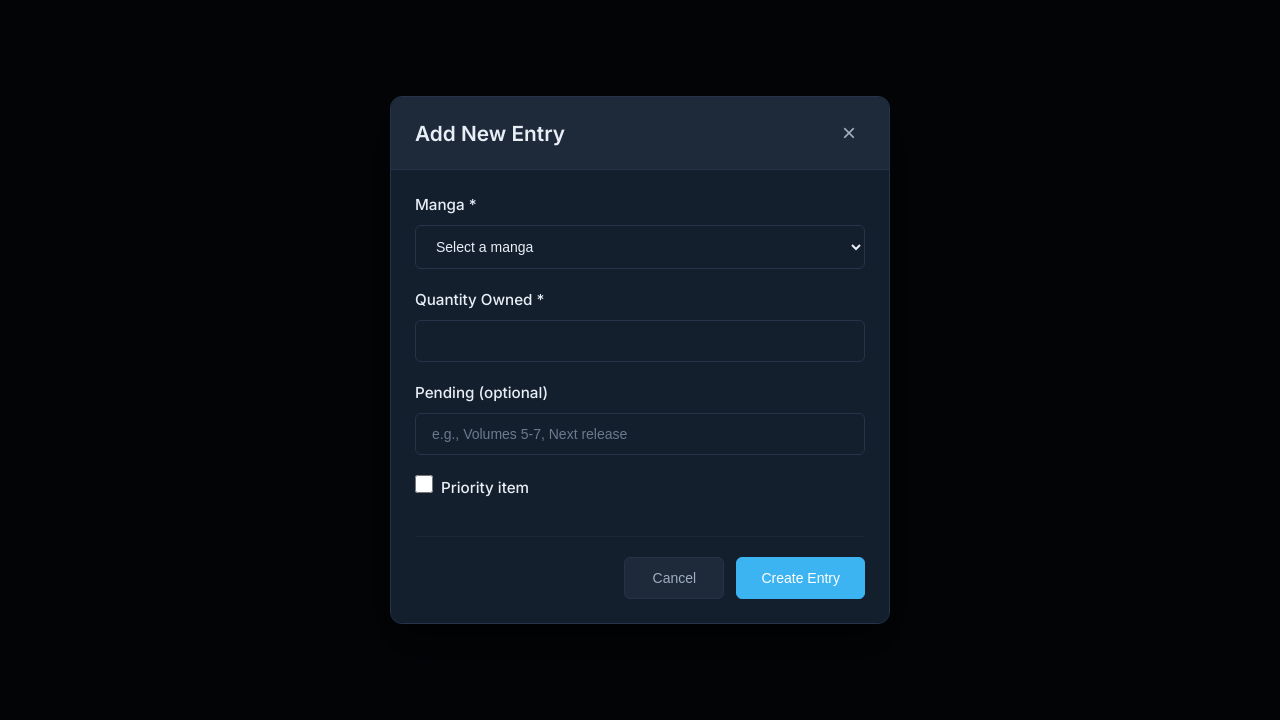
Test case: AddEntryModal: render y validaciones › exige un perfil seleccionado
Select "Alpha (10 volumes)" in the dropdown labelled "Manga *" at coordinates (640, 247), box [415,225,865,269]
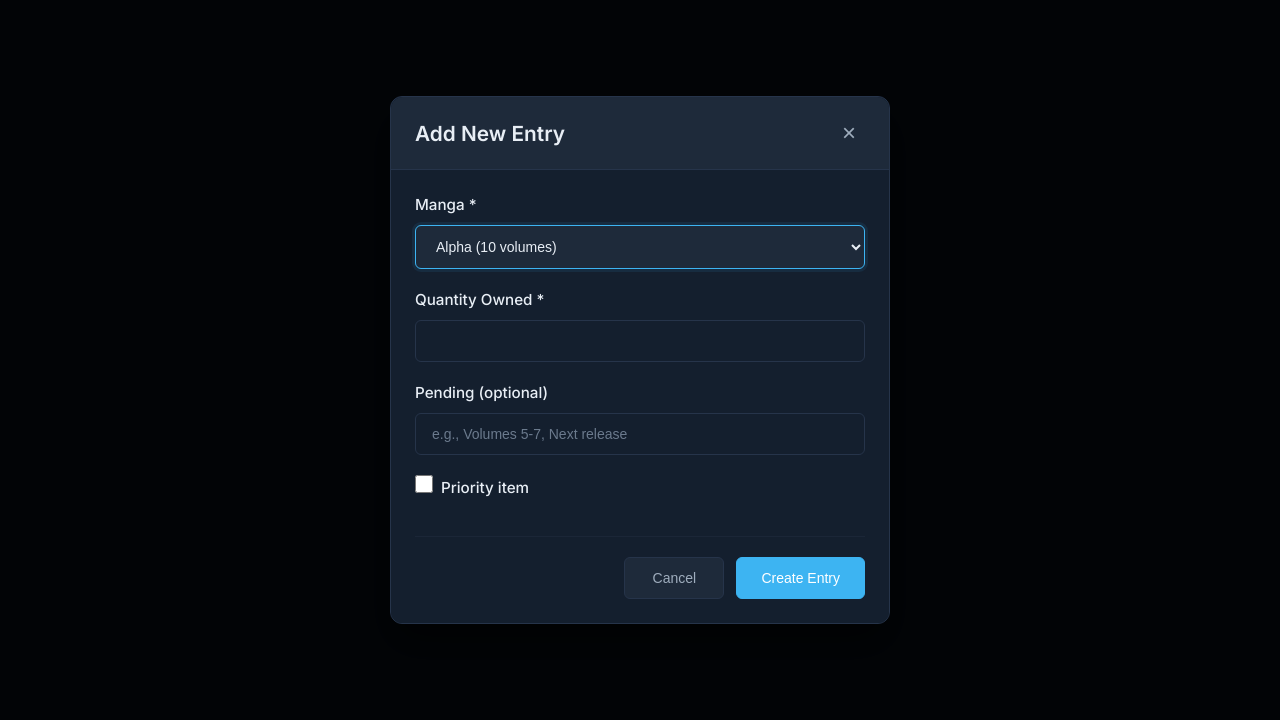
Type "3" into the number field labelled "Quantity Owned *" at coordinates (640, 341), box [415,320,865,362]
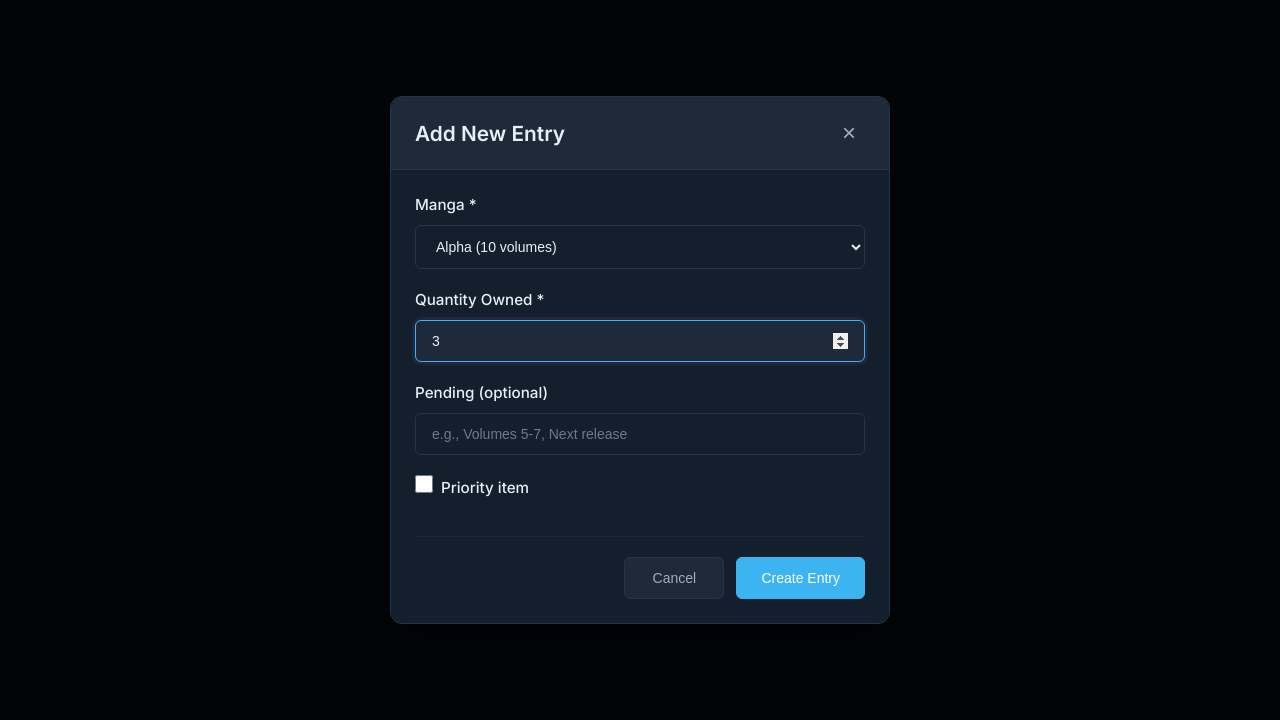
Submit the form, box [391,170,889,623]
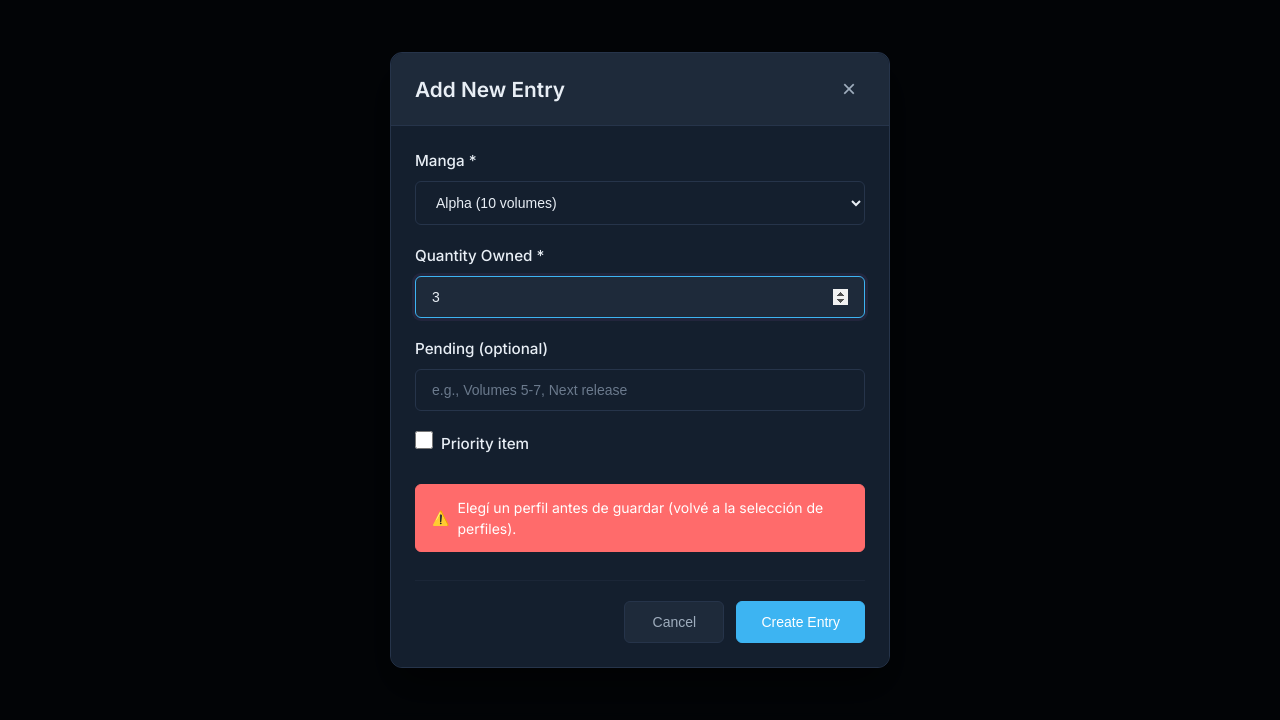
Now the text "Elegí un perfil antes de guardar (volvé a la selección de perfiles)." is shown, box [415,484,865,552]
